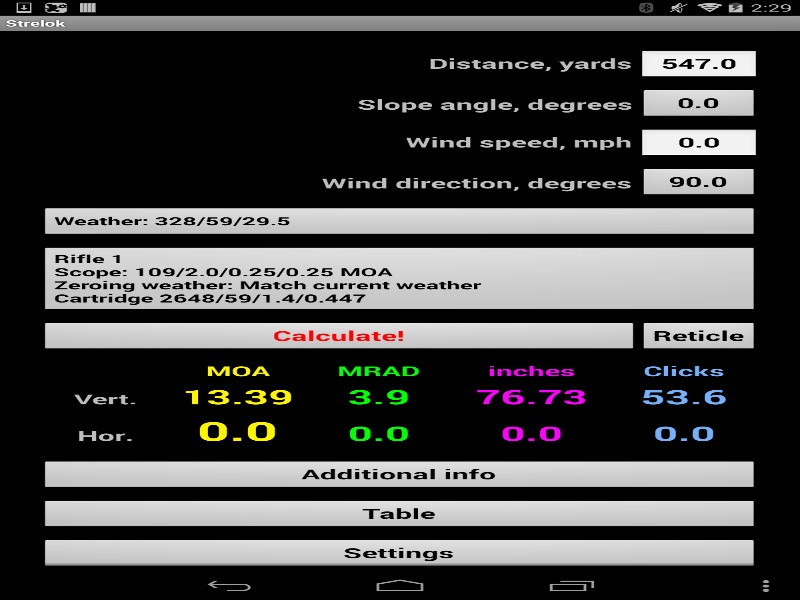Button: (40, 246, 759, 312), (40, 207, 759, 237), (40, 460, 759, 490), (40, 500, 759, 530), (40, 539, 759, 569), (40, 322, 638, 352), (638, 89, 759, 119), (638, 168, 759, 198), (638, 322, 759, 352)
Input: (638, 50, 759, 80), (638, 128, 759, 158)
